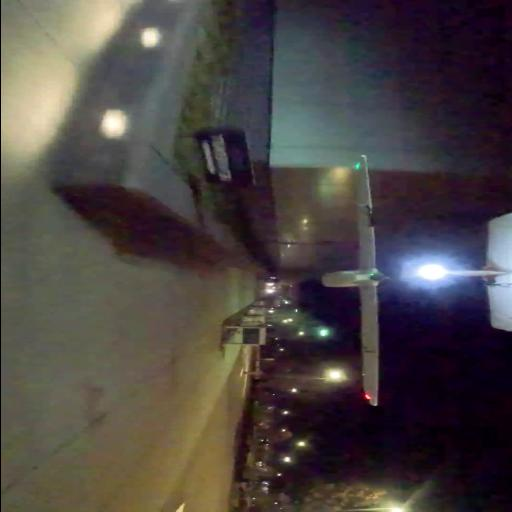uav: (312, 150, 512, 410)
